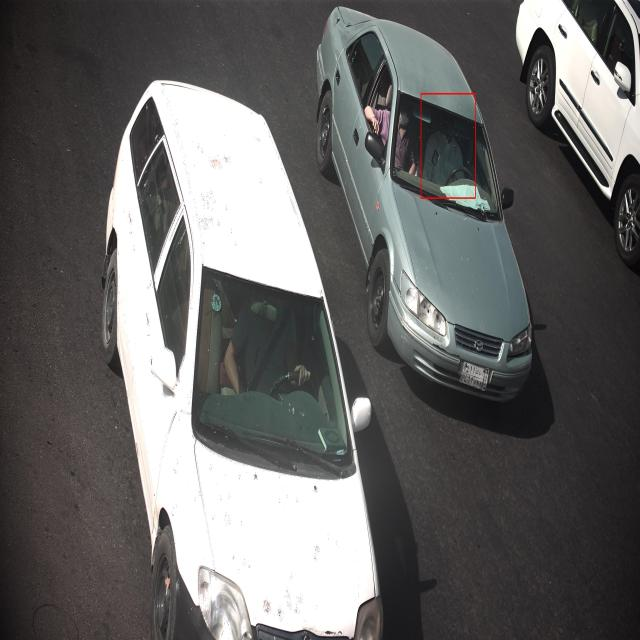windshield: (189, 262, 356, 484), (391, 86, 502, 220)
